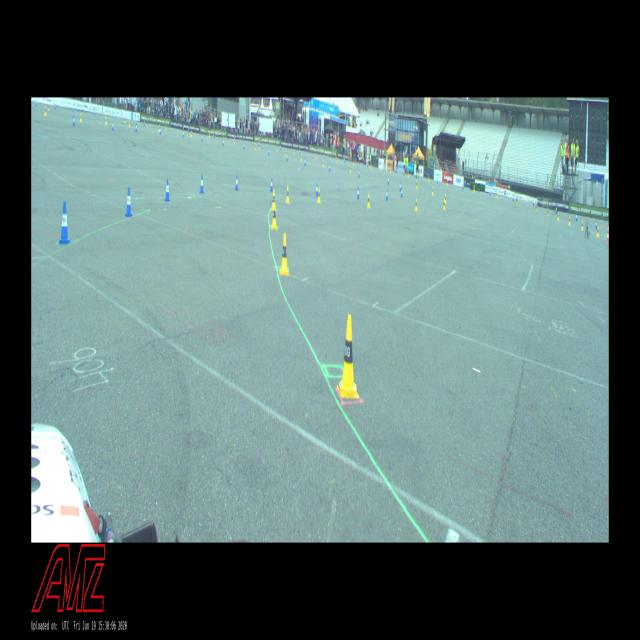blue_cone: (59, 202, 70, 243), (126, 188, 132, 216), (164, 179, 170, 201), (200, 175, 204, 192), (235, 175, 238, 190), (270, 179, 272, 191), (357, 187, 359, 199), (316, 184, 318, 196), (386, 189, 388, 200), (596, 220, 598, 229), (400, 188, 402, 197), (73, 116, 75, 125), (304, 157, 306, 166), (576, 213, 578, 221), (112, 122, 114, 130), (243, 142, 245, 150), (136, 124, 138, 131), (268, 148, 270, 155), (358, 170, 360, 177), (555, 206, 557, 213), (286, 154, 288, 161), (400, 182, 401, 192), (329, 163, 330, 172), (183, 130, 184, 138), (388, 177, 389, 184), (202, 135, 202, 141)
large_orange_cone: (606, 226, 608, 243)
yellow_cone: (337, 315, 359, 399), (279, 233, 289, 276), (271, 205, 277, 230), (272, 191, 276, 210), (286, 186, 289, 203), (367, 194, 370, 208), (596, 225, 599, 238), (580, 221, 584, 230), (318, 189, 320, 203), (568, 216, 571, 225), (415, 199, 417, 211), (443, 200, 445, 210), (432, 187, 434, 196), (80, 113, 82, 121), (105, 116, 107, 124), (547, 208, 549, 216), (534, 204, 536, 212), (557, 213, 559, 220), (165, 124, 167, 131), (516, 198, 518, 205), (496, 192, 498, 198), (445, 193, 446, 204), (315, 154, 317, 159), (416, 180, 417, 189), (350, 165, 351, 172), (255, 143, 256, 150), (323, 160, 324, 167), (191, 130, 192, 137), (129, 120, 130, 127), (301, 154, 302, 161), (428, 175, 429, 182), (336, 157, 337, 164), (259, 143, 260, 149), (294, 149, 294, 155), (286, 151, 286, 156), (354, 160, 354, 166), (408, 171, 408, 178)
